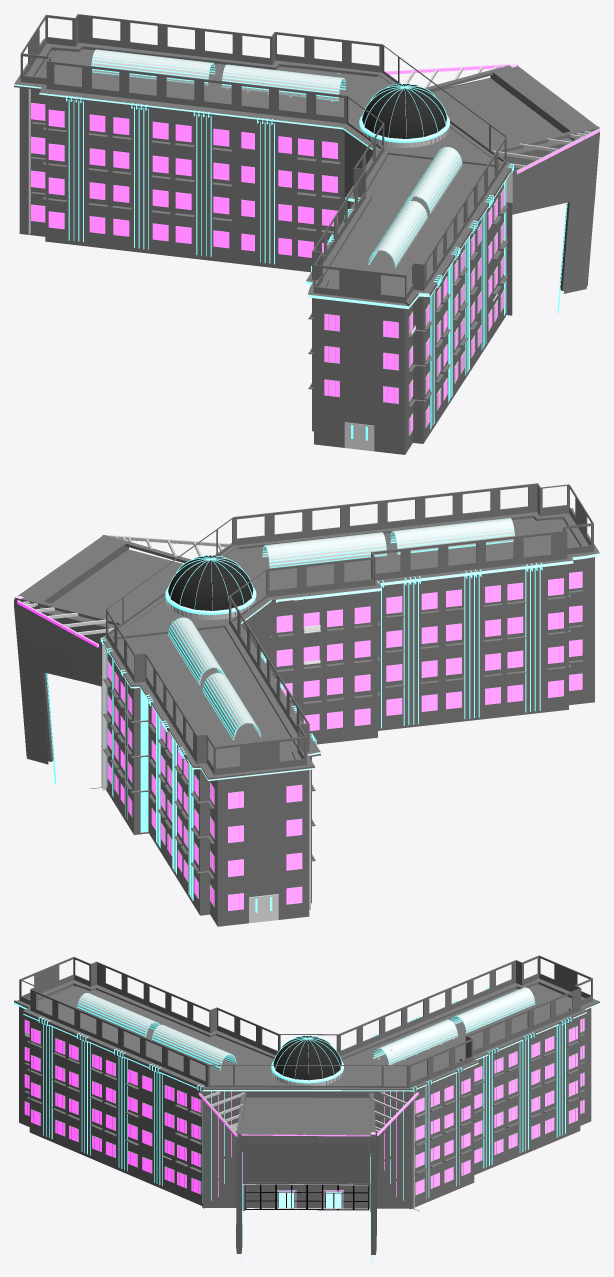
The model's file is building.glb.
3 views of the same model, one above another, from view 1: azimuth 30°, elevation 25°; view 2: azimuth 150°, elevation 25°; view 3: azimuth 270°, elevation 25° (orthographic). The views are drawn at different scales.
Visible parts, largest first — view 1: Cube.031, Cube.044, Cube.077, Cube.035, Sphere, Cube.075; view 2: Cube.031, Cube.044, Cube.077, Cube.035, Sphere, Cube.075; view 3: Cube.031, Cube.044, Cube.077, Cube.035, Sphere, Cube.075.
Part boxes in pixels (x1,y1,x2,y2): Cube.031: [14, 14, 599, 454]; Cube.044: [31, 64, 599, 436]; Cube.077: [66, 49, 567, 440]; Cube.035: [28, 49, 512, 451]; Sphere: [361, 83, 447, 138]; Cube.075: [14, 84, 510, 309]; Cube.031: [14, 483, 599, 926]; Cube.044: [15, 535, 582, 910]; Cube.077: [46, 518, 542, 912]; Cube.035: [23, 518, 514, 923]; Sphere: [167, 555, 253, 610]; Cube.075: [103, 553, 599, 780]; Cube.031: [14, 955, 599, 1254]; Cube.044: [24, 1018, 584, 1209]; Cube.077: [38, 985, 571, 1262]; Cube.035: [25, 987, 534, 1209]; Sphere: [273, 1035, 341, 1080]; Cube.075: [14, 1002, 599, 1210].
Size of the model in its own units: 379 by 201 by 597.
